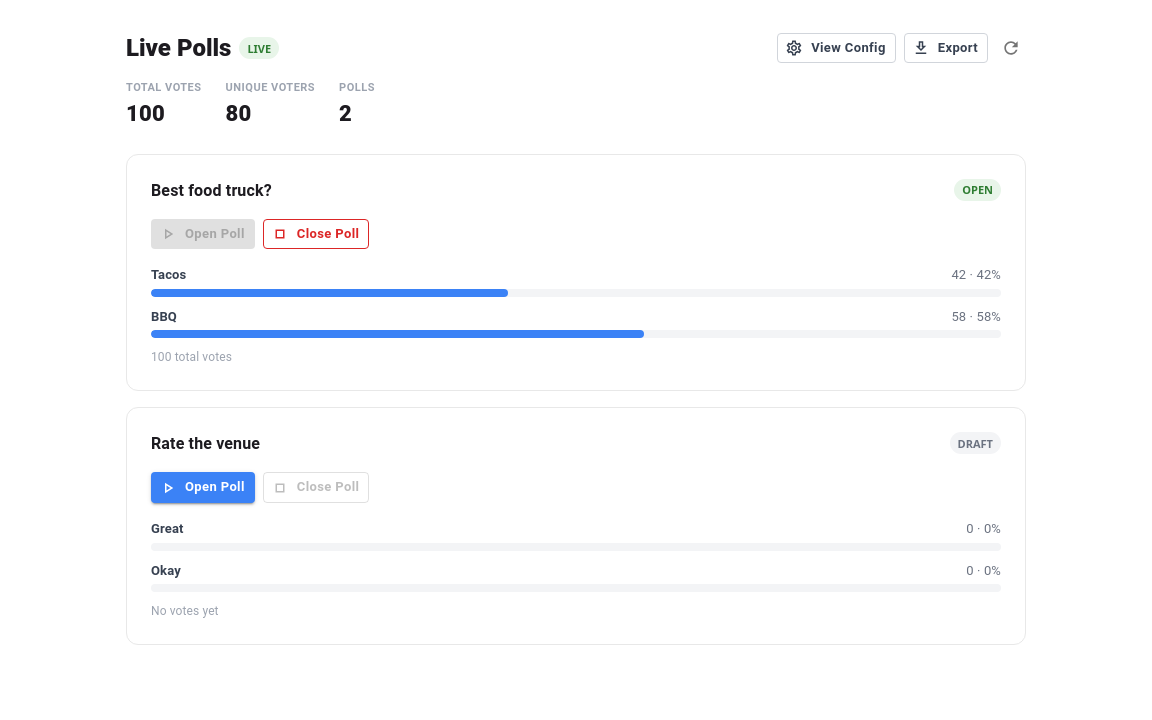
it: LivePollLiveDashboard › opens a draft poll and optimistically reflects the open state
The width and height of the screenshot is (1152, 720).
expect the text "Rate the venue" is shown: met, box [151, 434, 260, 453]
Step 1. Click the button "Open Poll" below "Rate the venue" → [203, 488], box [151, 472, 255, 503]
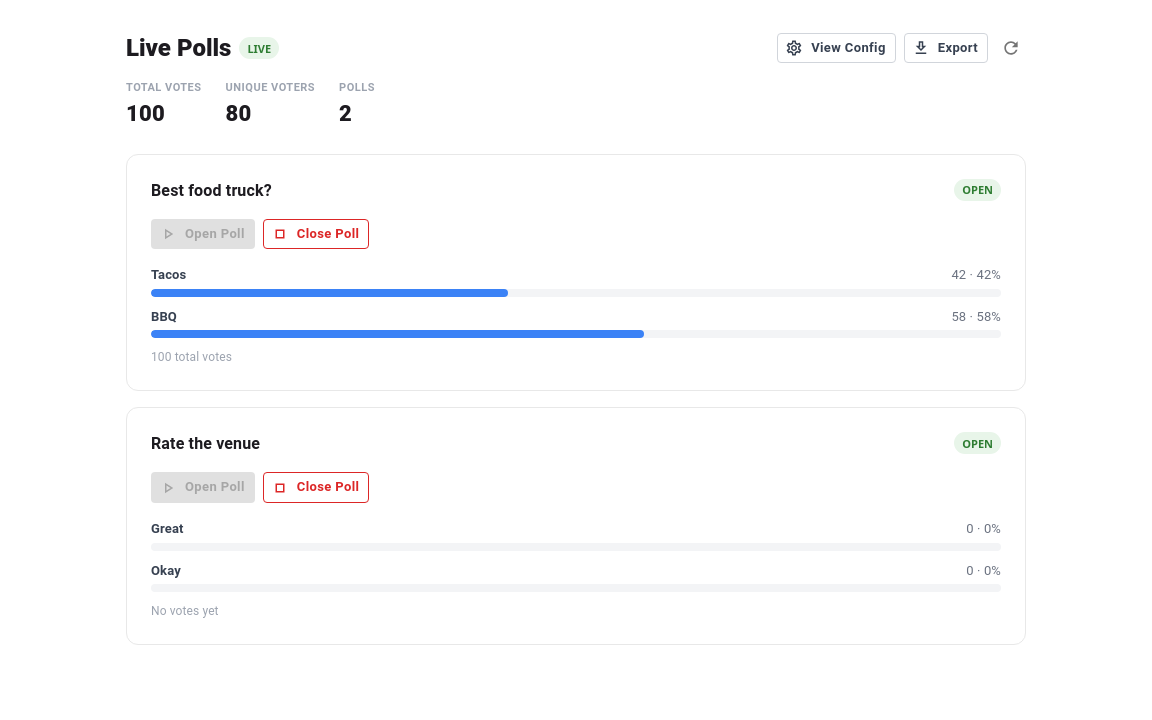
expect the element with test id "poll-state-poll-2" reads "OPEN": met, box [962, 436, 993, 451]
